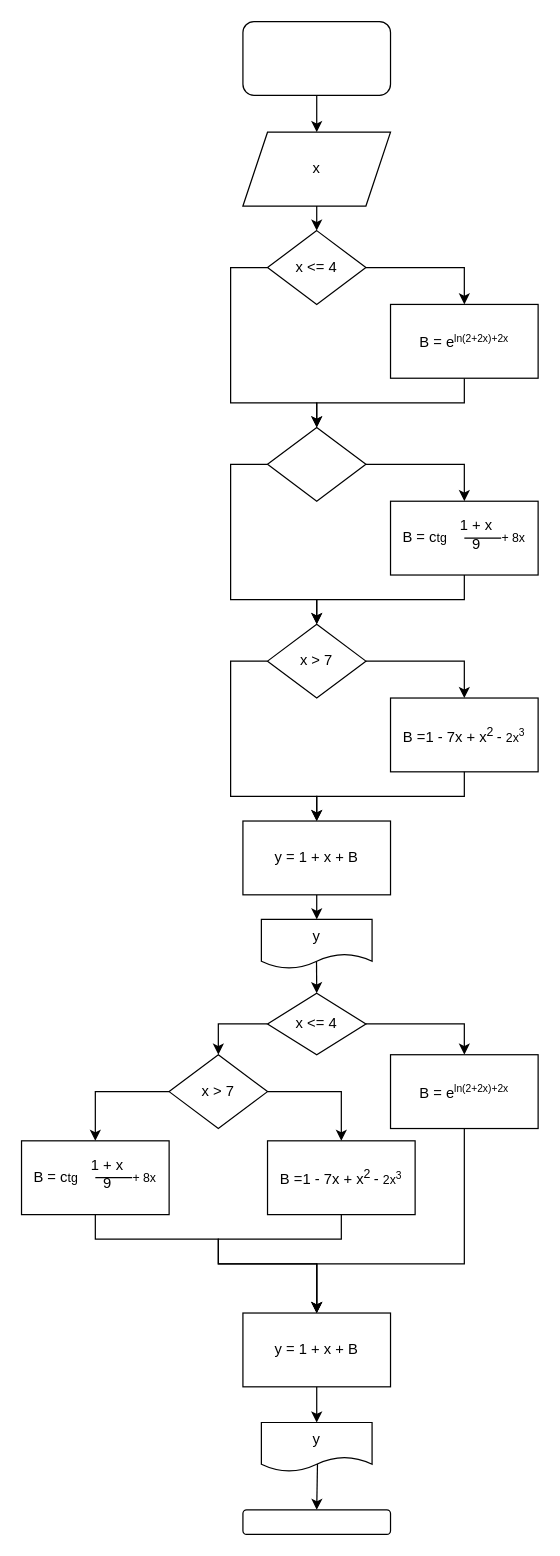
Image size: 560x1556. Some labels were removed from this diagram. Here are the shapes that lost their labels. From the top down, the centre of each, then its label:
(x=316, y=57): Початок
(x=316, y=463): 4 < x <= 7
(x=316, y=1521): Кінець
